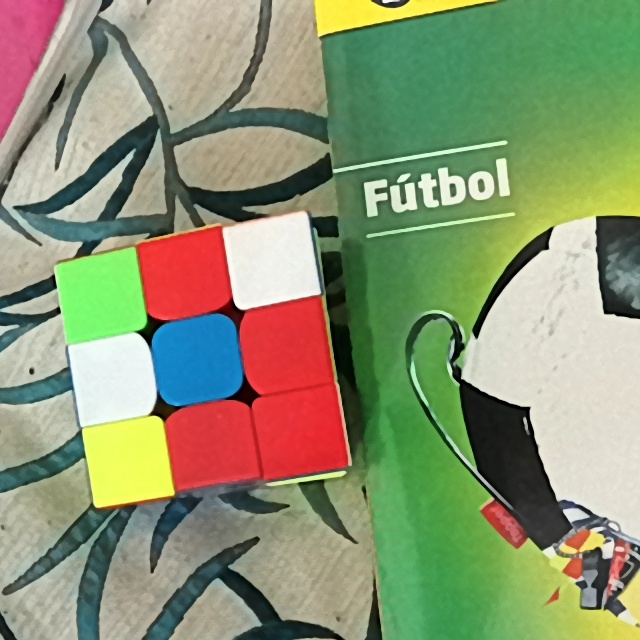tile: (266, 397, 338, 468), (149, 242, 218, 309), (164, 329, 231, 396), (80, 349, 148, 413), (240, 227, 305, 293), (98, 427, 165, 491), (254, 315, 320, 377), (70, 263, 131, 330), (178, 413, 240, 477)
